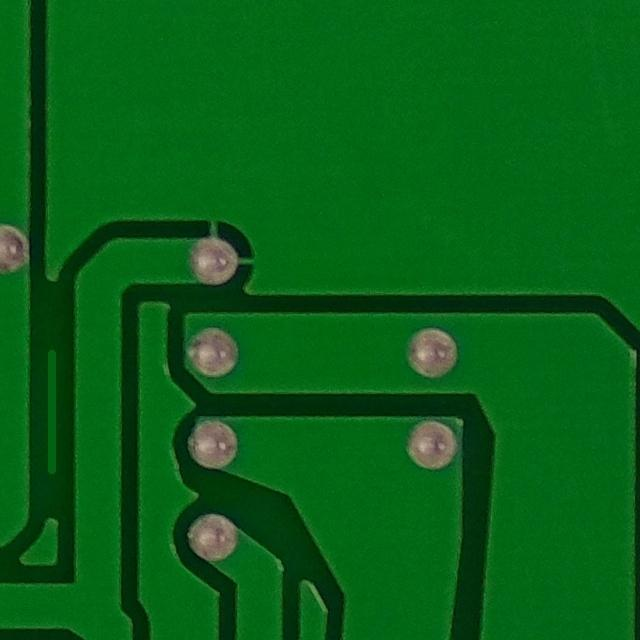spurious_copper: (30, 331, 75, 488)
